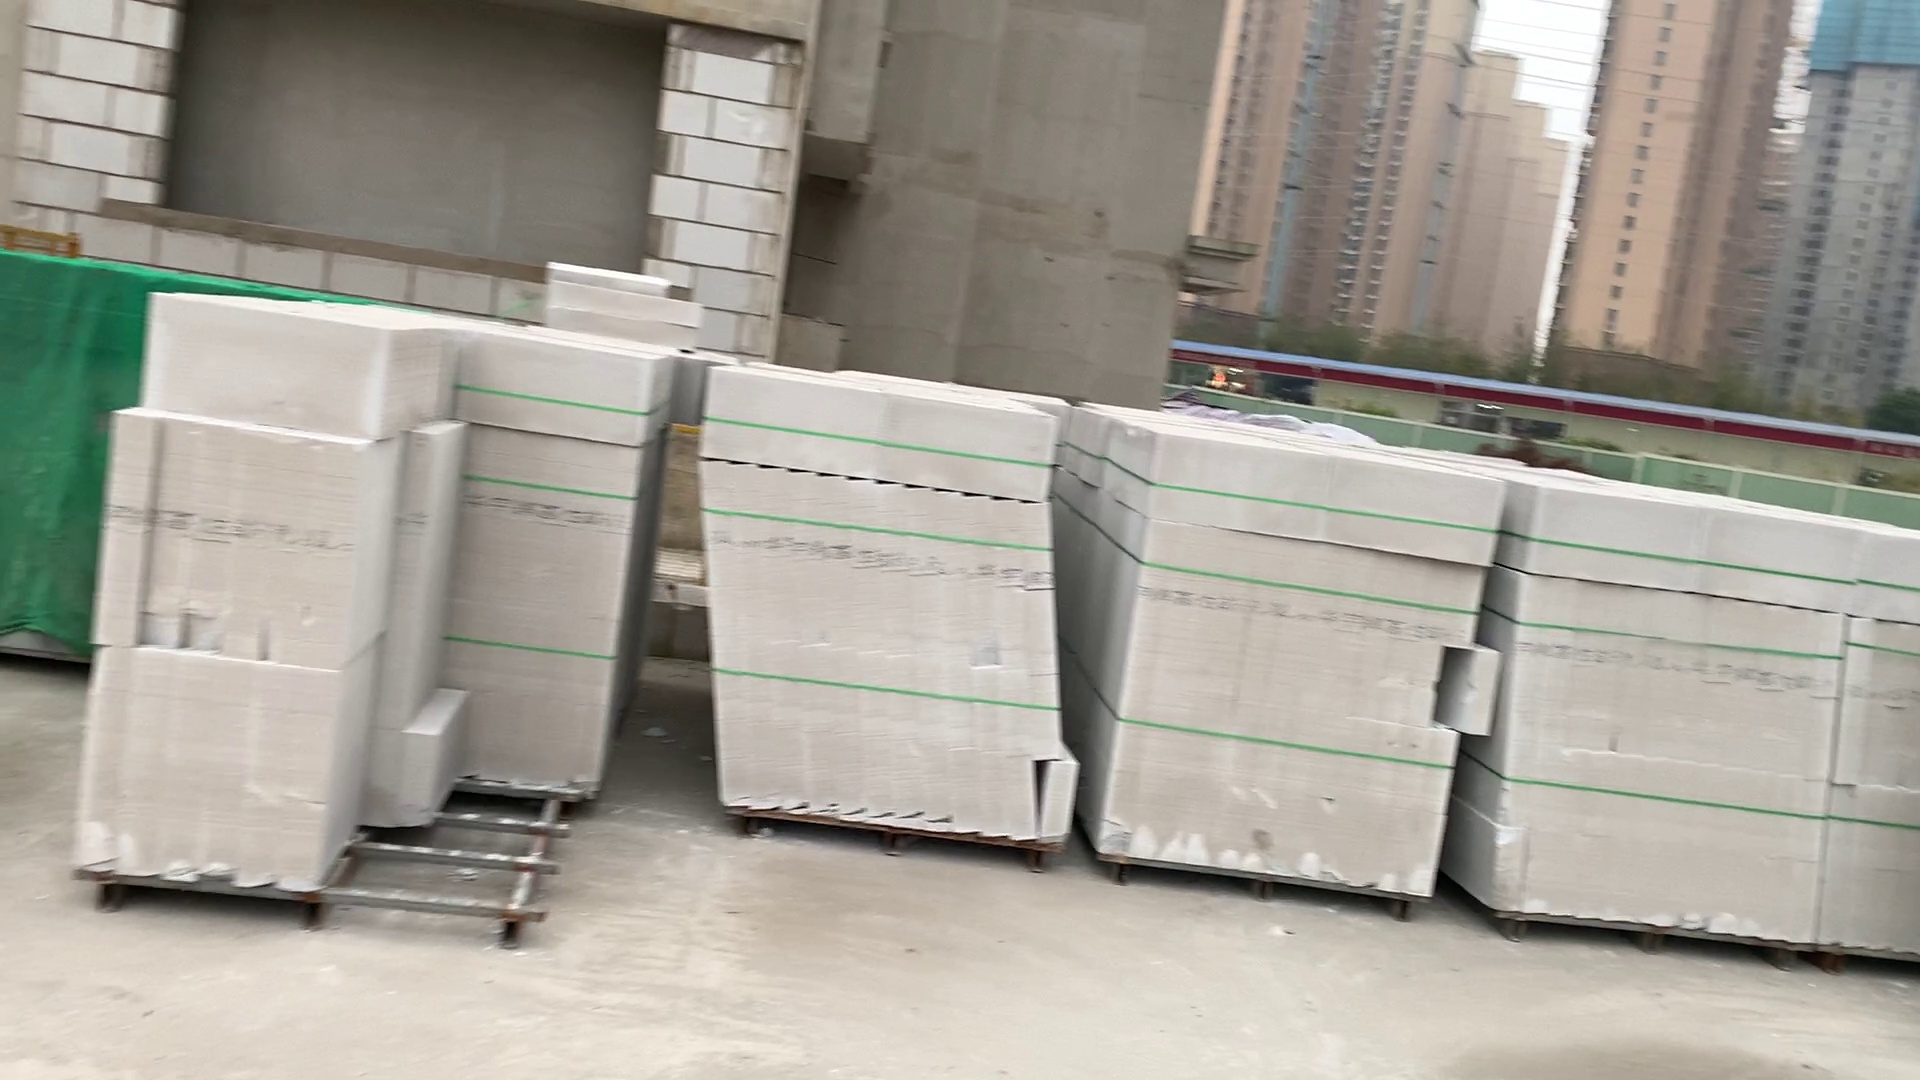brickwork: (84, 289, 647, 891), (1505, 475, 1920, 964), (1085, 419, 1489, 893), (698, 361, 1069, 847)
